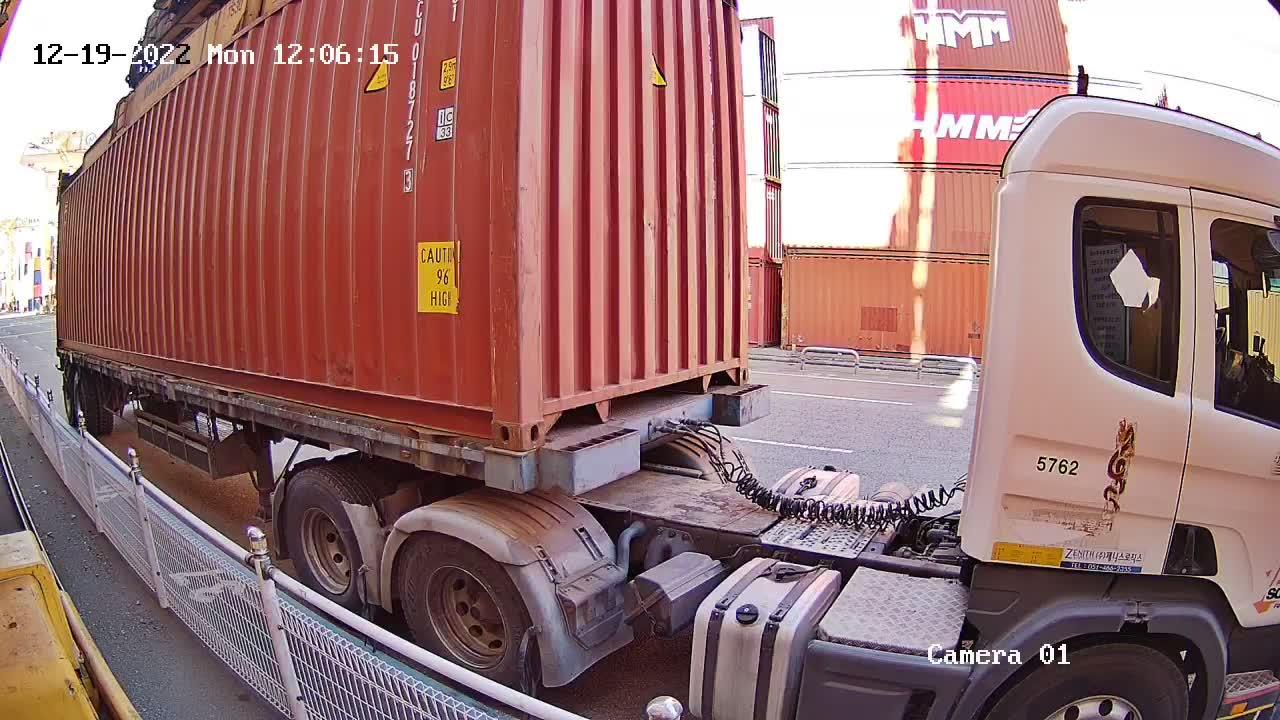Chassis: (483, 384, 753, 494)
Hole_L: (523, 380, 575, 449)
Hole_R: (462, 388, 518, 450), (714, 336, 750, 386)
Tire: (397, 532, 529, 682), (283, 471, 362, 603)
